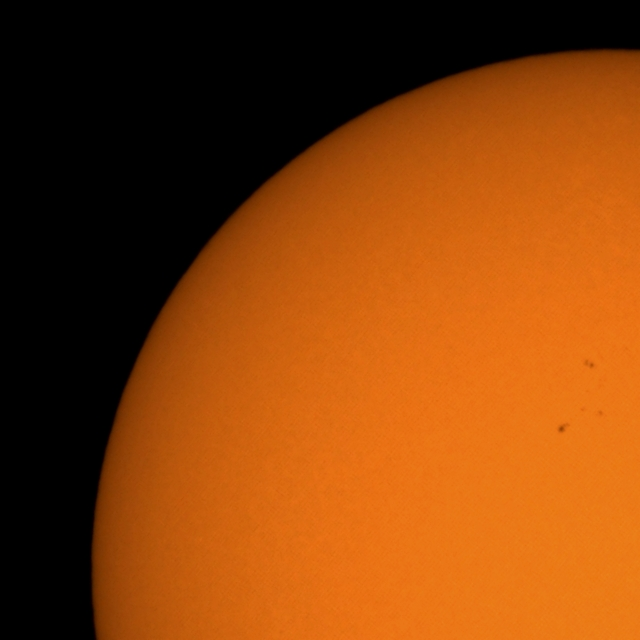sunspot: (580, 406, 604, 419), (556, 422, 572, 434), (582, 358, 596, 370), (596, 409, 604, 419)
